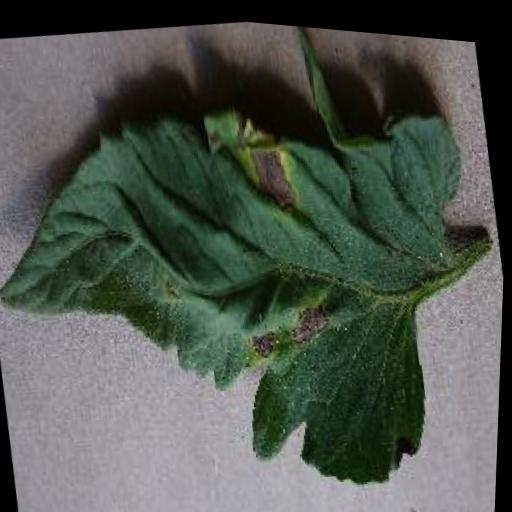Early Blight: (0, 56, 505, 512)
